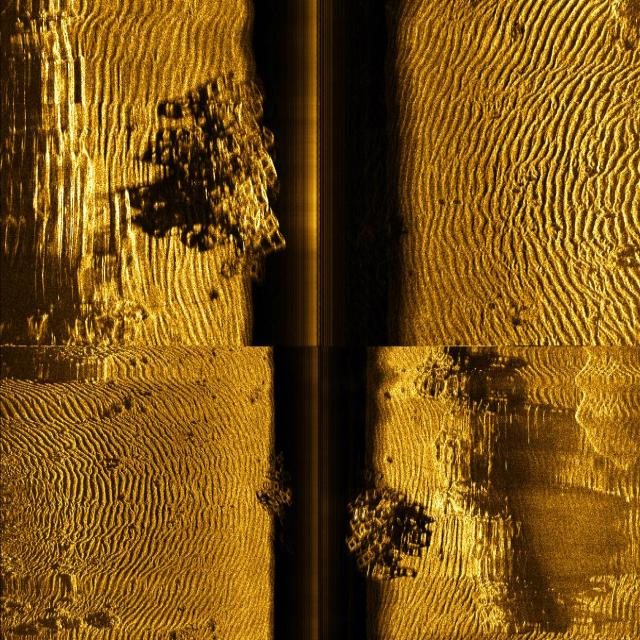artificial reef: (182, 70, 287, 283), (347, 478, 411, 581), (264, 440, 295, 535)
